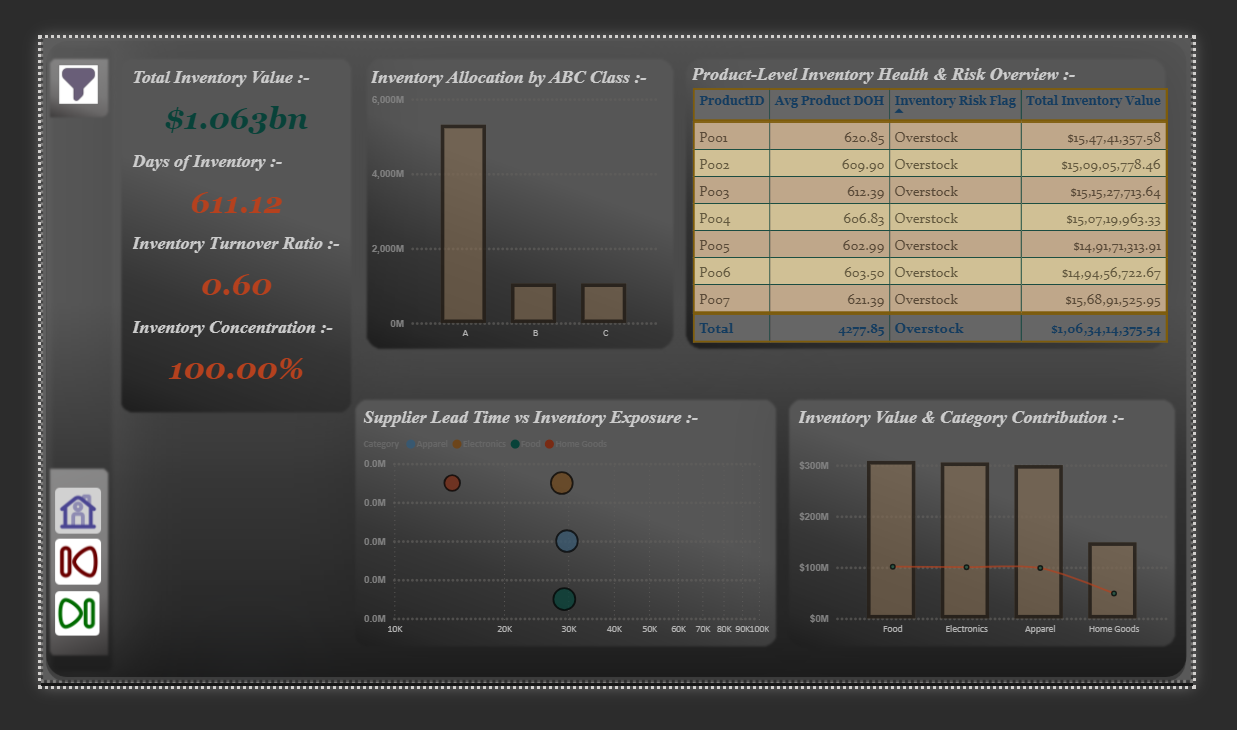

Layout of this report page (visuals, bound fields, positions):
{"tool":"powerbi","page":{"name":"Inventory Optimization & Working Capital :-","canvas":[1280,720],"ordinal":3},"visuals":[{"type":"group","id":"g1","title":"All Visuals ","box":[353.3,28.3,906.7,643.3],"z":0},{"type":"card","title":"Total Inventory Value :-","fields":{"Values":["MyMeasures.Total Inventory Value"]},"box":[97.1,32.4,240.2,90.3],"z":0,"group":"g2"},{"type":"lineClusteredColumnComboChart","title":"Inventory Value & Category Contribution :-","fields":{"Category":["Dim_Product.Category"],"Y":["MyMeasures.Total Inventory Value"],"Y2":["MyMeasures.Inventory % by Category"]},"box":[836.6,410,421.7,261.7],"z":0,"group":"g1"},{"type":"actionButton","title":"Previous Page  Button ","box":[12.2,551.1,59.1,60.6],"z":0,"group":"g3"},{"type":"group","id":"g2","title":"All KPI","box":[97.1,32.4,240.2,368.5],"z":500},{"type":"tableEx","title":"Product-Level Inventory Health & Risk Overview :-","fields":{"Values":["Dim_Product.ProductID","MyMeasures.Avg Product DOH","MyMeasures.Inventory Risk Flag","MyMeasures.Total Inventory Value"]},"box":[718.3,28.3,541.7,328.3],"z":1000,"group":"g1"},{"type":"card","title":"Days of Inventory  :-","fields":{"Values":["MyMeasures.Days of Inventory"]},"box":[97.1,125.5,240.2,90.3],"z":1000,"group":"g2"},{"type":"actionButton","title":"Next Page Button ","box":[12.2,608.6,57.5,59.1],"z":1000,"group":"g3"},{"type":"group","id":"g3","title":"Navigation","box":[12.2,21.1,60,646.6],"z":2000},{"type":"card","title":"Inventory Turnover Ratio :-","fields":{"Values":["MyMeasures.Inventory Turnover"]},"box":[97.1,218,240.2,90.3],"z":2000,"group":"g2"},{"type":"scatterChart","title":"Supplier Lead Time vs Inventory Exposure :-","fields":{"X":["Sum(Fact_SupplyChain.Lead_Time_Days)"],"Series":["Dim_Product.Category"],"Size":["MyMeasures.Total Inventory Value"],"Y":["Dim_Supplier.Risk_Score"]},"box":[353.3,410,460,261.7],"z":2000,"group":"g1"},{"type":"actionButton","title":"Home Button ","box":[12.2,495,59.1,60.6],"z":2000,"group":"g3"},{"type":"actionButton","title":"Filter Button ","box":[12.2,21.1,60,60],"z":3000,"group":"g3"},{"type":"clusteredColumnChart","title":"Inventory Allocation by ABC Class :-","fields":{"Category":["ABC_Table.ABC Class"],"Y":["MyMeasures.Inventory Value by ABC"]},"box":[362,32.3,328.8,311.8],"z":3000,"group":"g1"},{"type":"card","title":"Inventory Concentration :-","fields":{"Values":["MyMeasures.Overstock %"]},"box":[97.1,310.6,240.2,90.3],"z":3000,"group":"g2"}]}

Visuals, with their boxes on the page's 1280x720 design canvas (x1, y1, x2, y2). These are canvas units, not pixel positions in the 1237x730 screenshot, which may show the page scaled, cropped or inside an application window:
"All Visuals " group: (x1=353, y1=28, x2=1260, y2=672)
"Total Inventory Value :-" card: (x1=97, y1=32, x2=337, y2=123)
"Inventory Value & Category Contribution :-" lineClusteredColumnComboChart: (x1=837, y1=410, x2=1258, y2=672)
"Previous Page  Button " actionButton: (x1=12, y1=551, x2=71, y2=612)
"All KPI" group: (x1=97, y1=32, x2=337, y2=401)
"Product-Level Inventory Health & Risk Overview :-" tableEx: (x1=718, y1=28, x2=1260, y2=357)
"Days of Inventory  :-" card: (x1=97, y1=126, x2=337, y2=216)
"Next Page Button " actionButton: (x1=12, y1=609, x2=70, y2=668)
"Navigation" group: (x1=12, y1=21, x2=72, y2=668)
"Inventory Turnover Ratio :-" card: (x1=97, y1=218, x2=337, y2=308)
"Supplier Lead Time vs Inventory Exposure :-" scatterChart: (x1=353, y1=410, x2=813, y2=672)
"Home Button " actionButton: (x1=12, y1=495, x2=71, y2=556)
"Filter Button " actionButton: (x1=12, y1=21, x2=72, y2=81)
"Inventory Allocation by ABC Class :-" clusteredColumnChart: (x1=362, y1=32, x2=691, y2=344)
"Inventory Concentration :-" card: (x1=97, y1=311, x2=337, y2=401)
